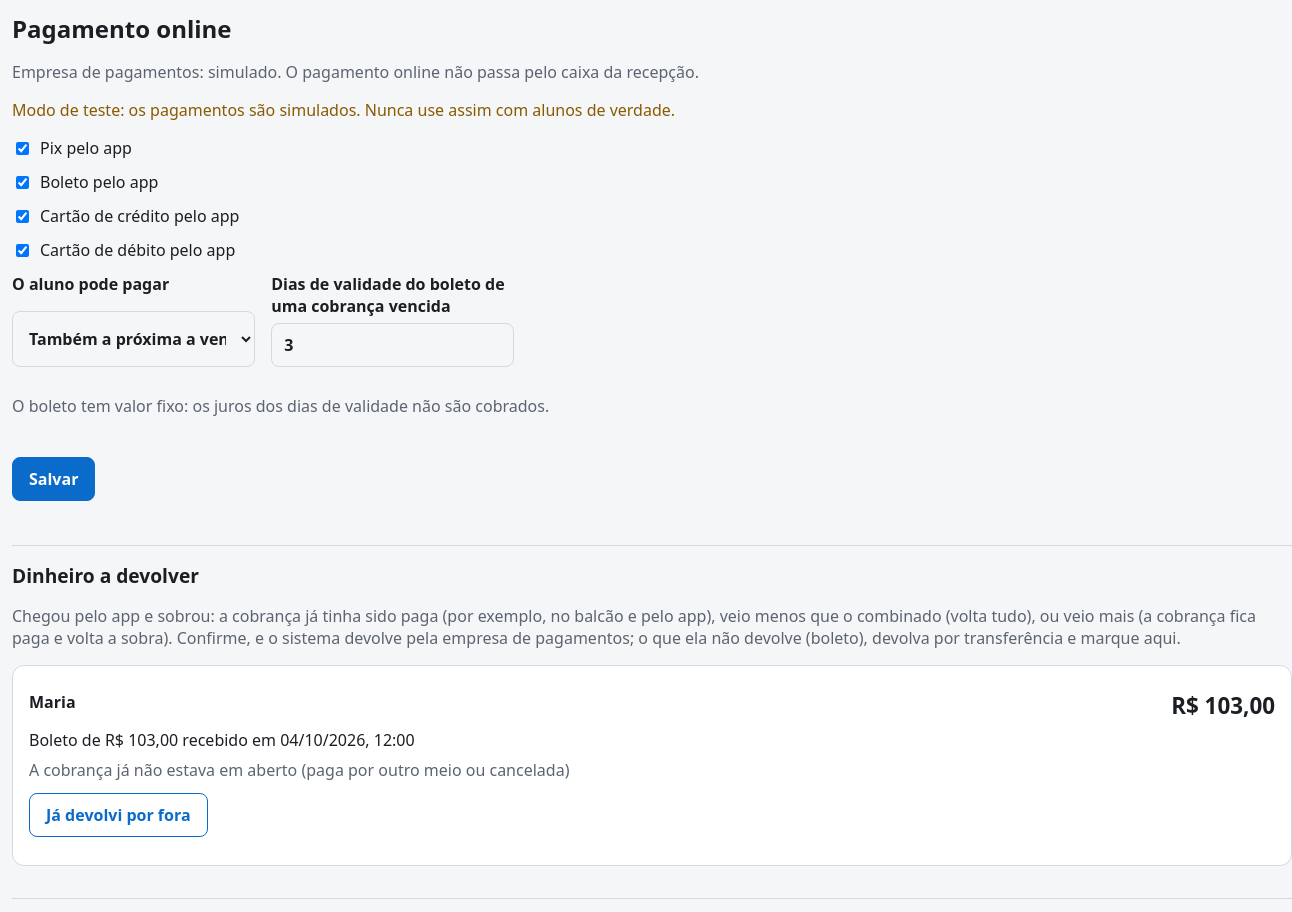
it: pagamento online (ADMIN) › boleto (a empresa não devolve): com o nome e o motivo; só "devolvi por fora", que recarrega
Expected: the text "Maria" is shown, [29,690,76,712]
Expected: the text "já não estava em aberto" is shown, [29,759,569,781]
Click the button "Já devolvi por fora".
click(118, 815)  # box [29,793,208,837]
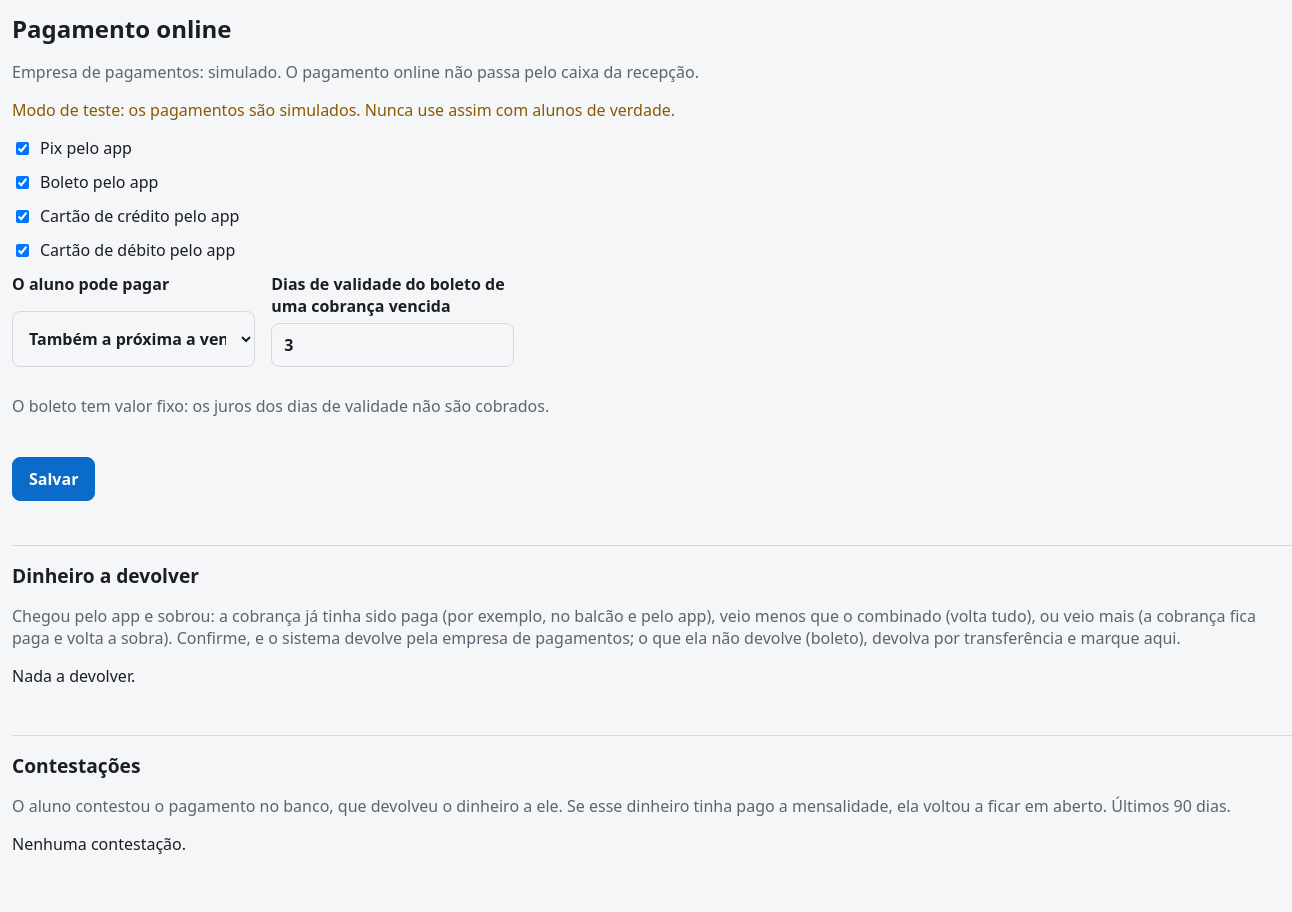
Now the text "Nada a devolver." is shown, box [12,665,135,687]
